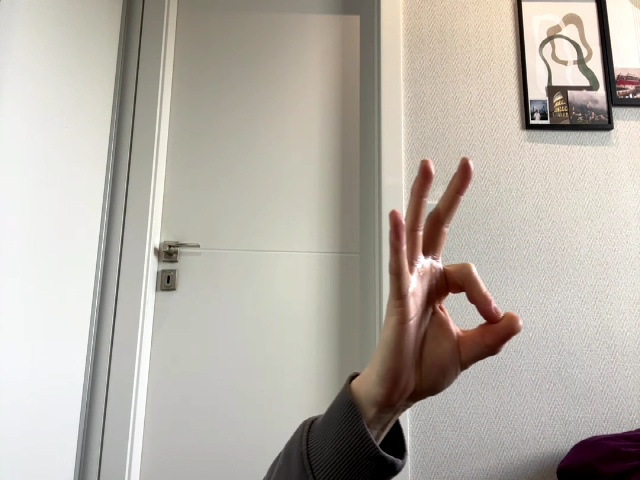O: (385, 157, 522, 412)
